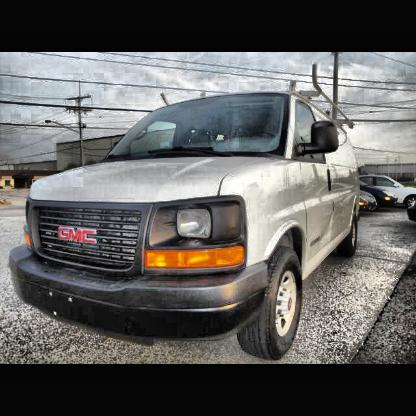GMC Savana Van 2012: (9, 90, 363, 362)
